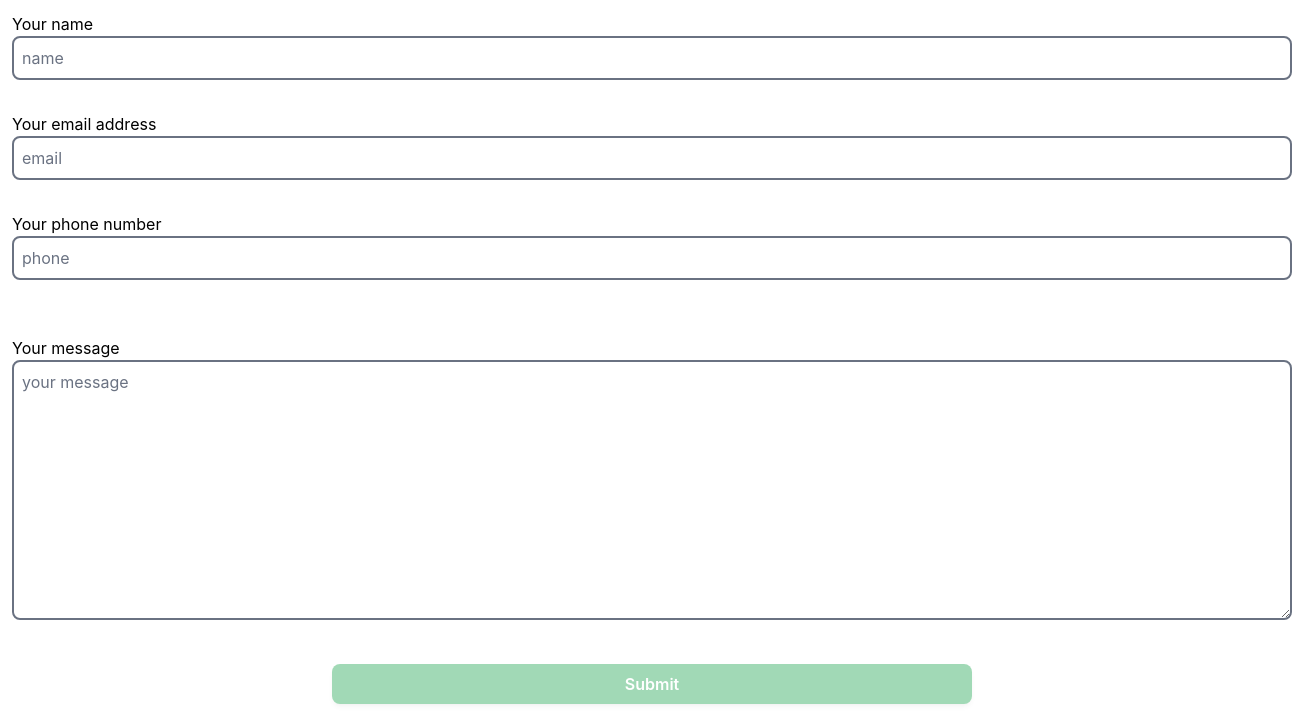
BaseContactForm › displays error message for invalid phone
The width and height of the screenshot is (1304, 720).
Type "123" into the field labelled "Your phone number" at (652, 258), box [12, 236, 1292, 280]
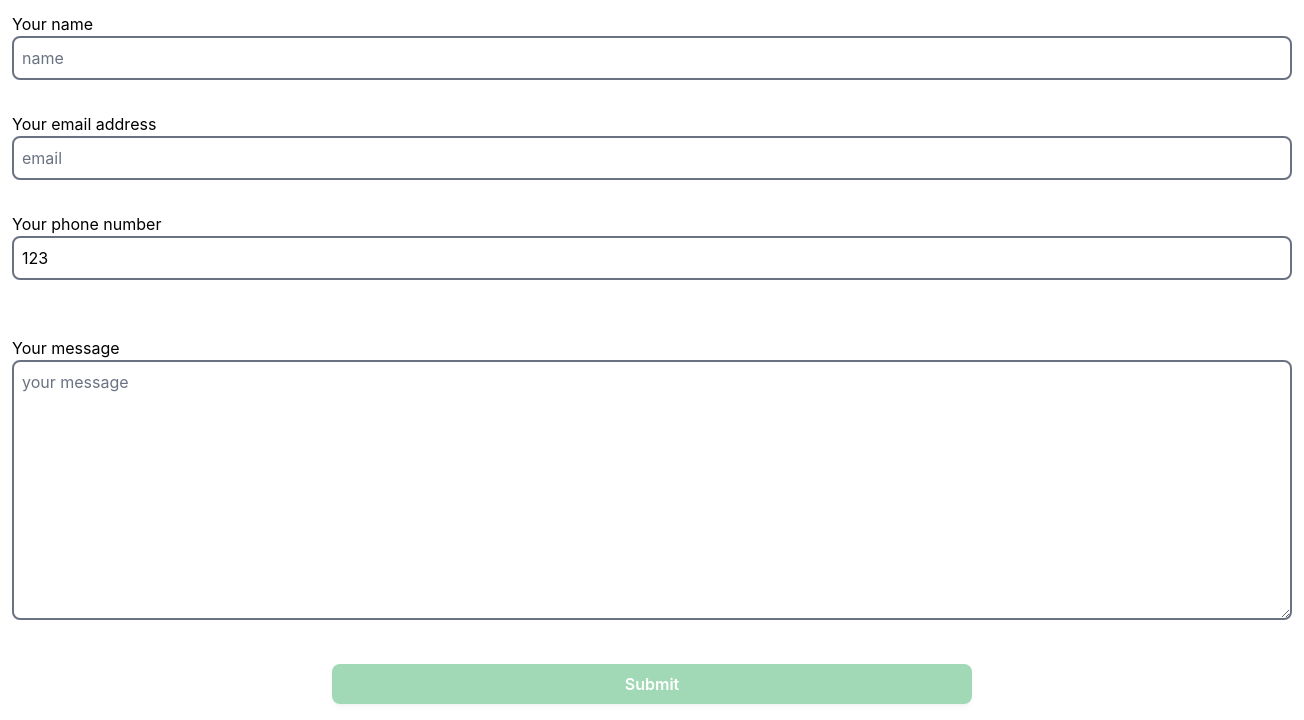
Leave the field labelled "Your phone number", box [12, 236, 1292, 280]
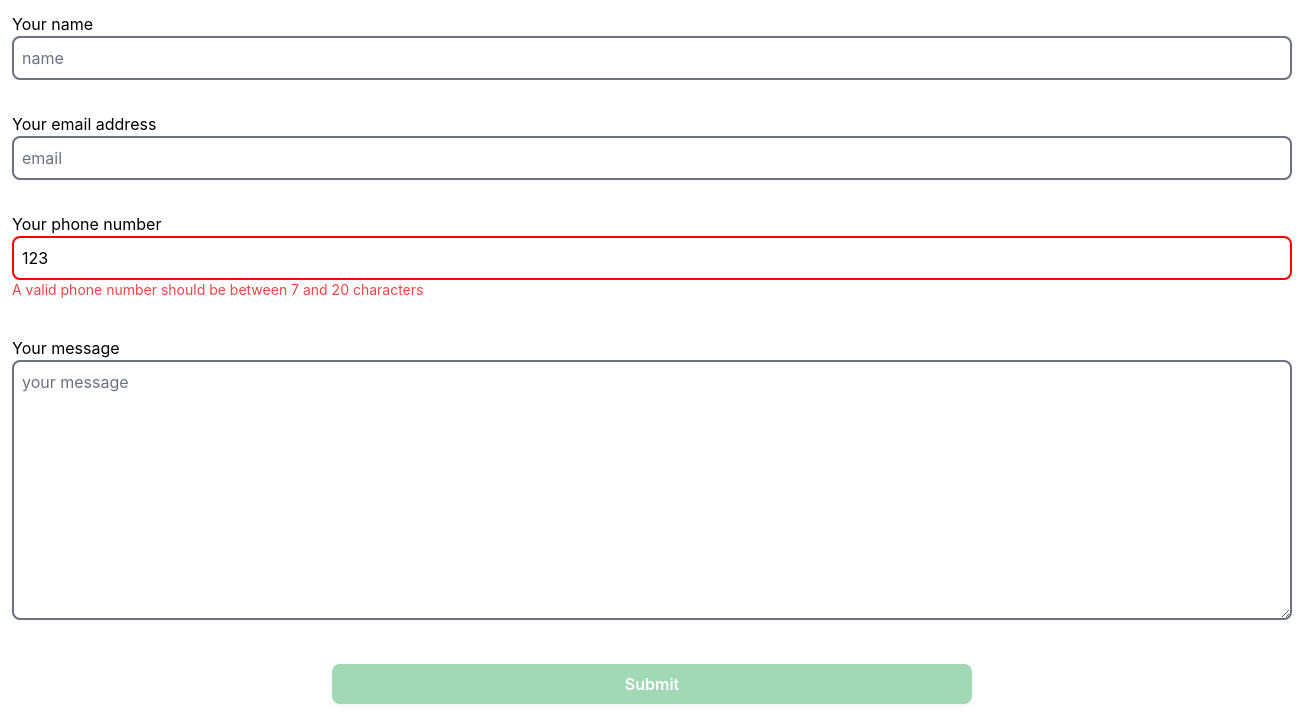
Result: the text "valid phone number" is shown at [12, 281, 423, 298]
